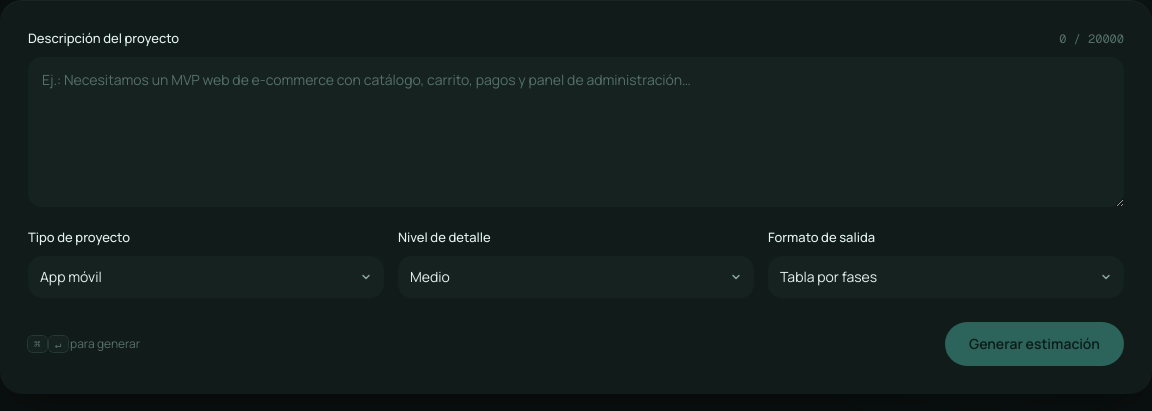
Test: EstimateForm › keeps submit disabled until the description reaches 20 characters
expect the button "Generar estimación" is disabled: met, box [945,322,1124,366]
Type "Muy corto" into the text box labelled "Descripción del proyecto 0 / 20000" at (576, 132), box [28,57,1124,207]
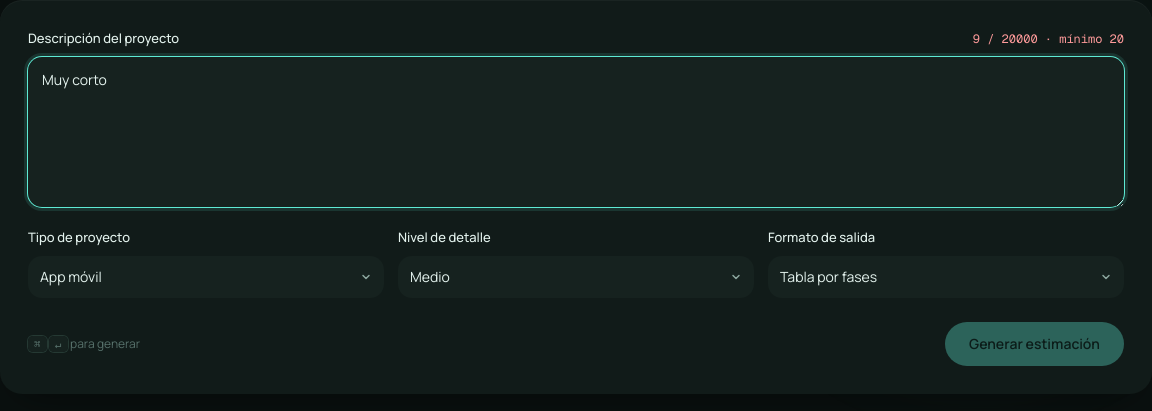
expect the button "Generar estimación" is disabled: met, box [945,322,1124,366]
expect the text "9 / 20000 · mínimo 20" is shown: met, box [973,31,1124,47]
Type " pero ahora ya alcanza" into the text box labelled "Descripción del proyecto 9 / 20000 · mínimo 20" at (576, 132), box [28,57,1124,207]
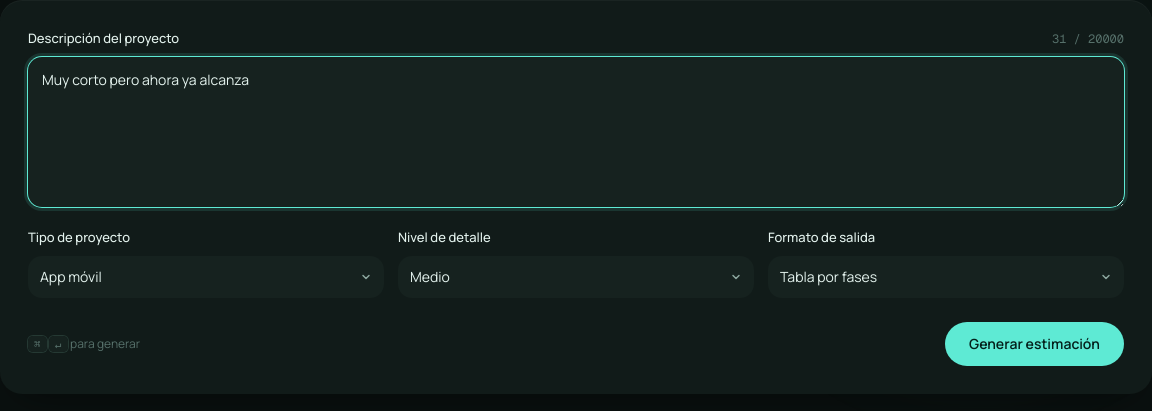
expect the button "Generar estimación" is enabled: met, box [945,322,1124,366]
expect the text "mínimo 20" is gone: met
